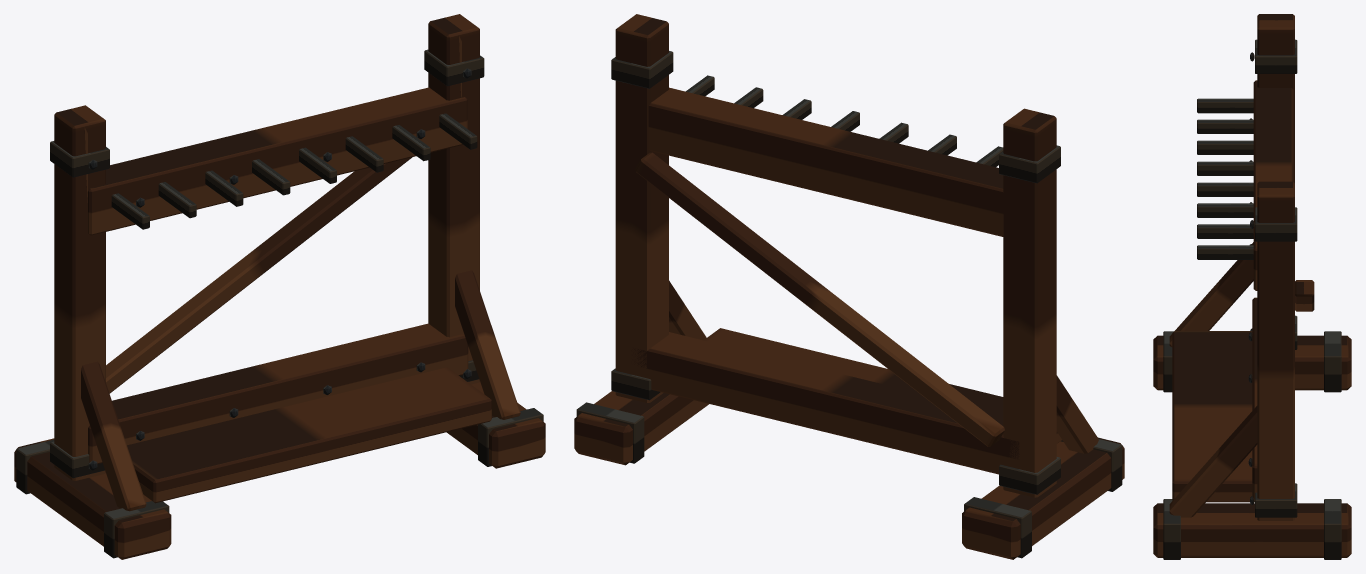
File: WeaponRack_Floor_Empty.fbx
3 views of the same model, side by side, from view 1: azimuth 30°, elevation 25°; view 2: azimuth 150°, elevation 25°; view 3: azimuth 270°, elevation 25° (orthographic). The views are drawn at different scales.
Parts seen in each view (by area): view 1: WeaponRack_Floor_Empty; view 2: WeaponRack_Floor_Empty; view 3: WeaponRack_Floor_Empty.
Boxes of the visible parts, box(x1,y1,x2,y2) form: WeaponRack_Floor_Empty: box(14, 14, 545, 559); WeaponRack_Floor_Empty: box(574, 14, 1124, 559); WeaponRack_Floor_Empty: box(1153, 14, 1351, 559).
Bounding box in the file's own units: 1.93 × 1.68 × 0.84.
Materials: 2 (2 with a texture image).
